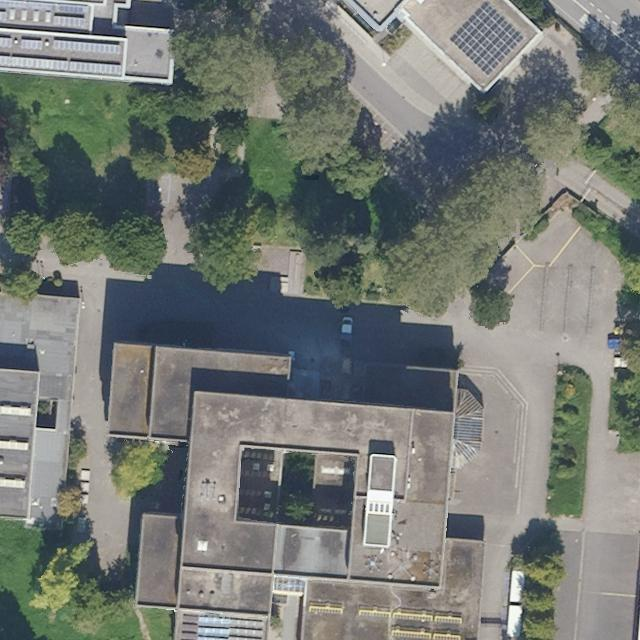PV: (447, 0, 527, 78), (0, 55, 123, 78), (179, 614, 266, 639), (51, 40, 122, 56), (53, 16, 87, 30), (20, 39, 42, 49), (0, 36, 14, 51)
